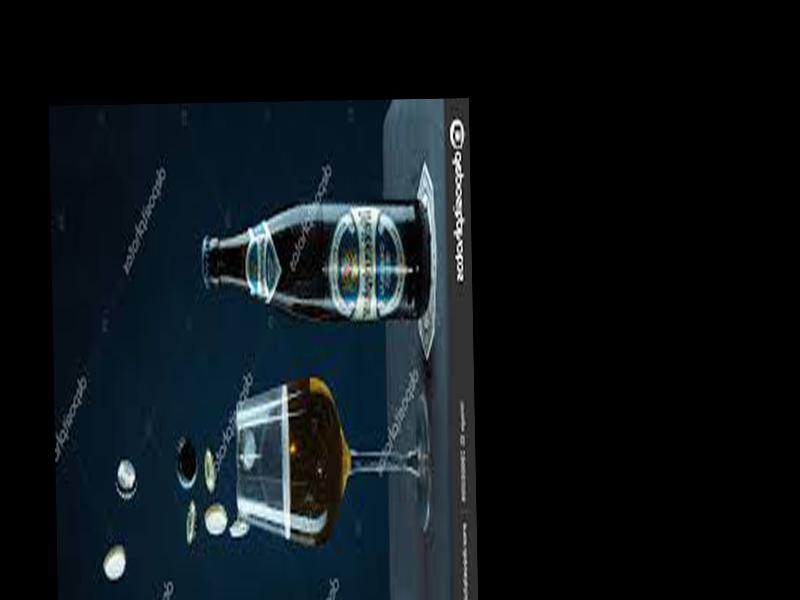Beer: (203, 203, 428, 320)
